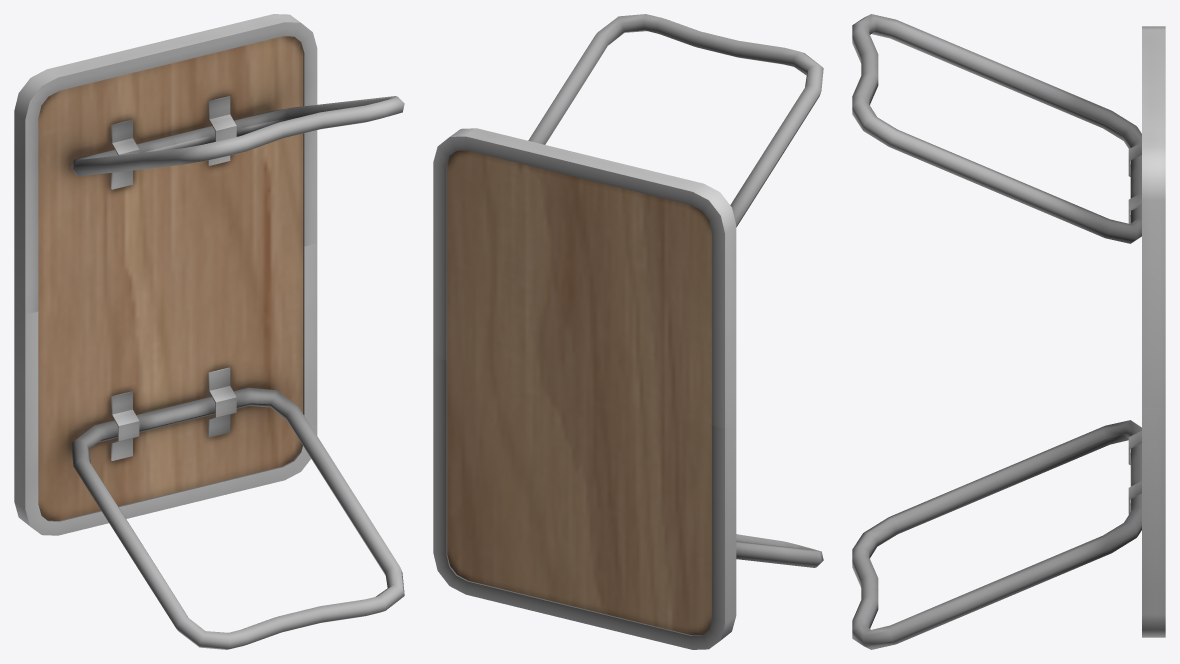
Rendered from Table.fbx.
The picture shows the model from 3 angles, left to right: view 1: azimuth 30°, elevation 25°; view 2: azimuth 150°, elevation 25°; view 3: azimuth 270°, elevation 25°; orthographic projection. The views are drawn at different scales.
Visible parts, largest first — view 1: TableS; view 2: TableS; view 3: TableS.
Part boxes in pixels (x1,y1,x2,y2): TableS: [14, 14, 404, 649]; TableS: [433, 14, 823, 649]; TableS: [852, 14, 1165, 649].
Size of the model in its own units: 0.45 by 0.7525 by 0.3945.
